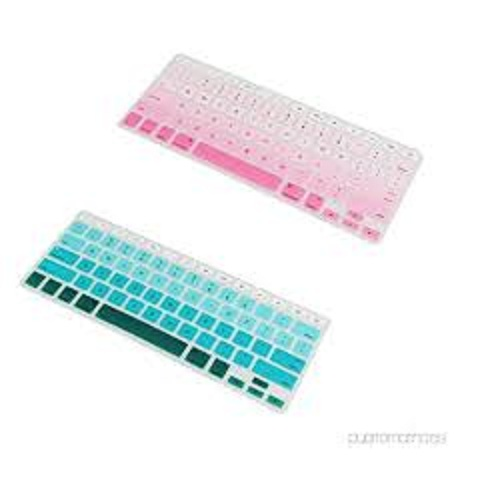Teclado: (16, 209, 327, 413), (114, 47, 426, 244)
